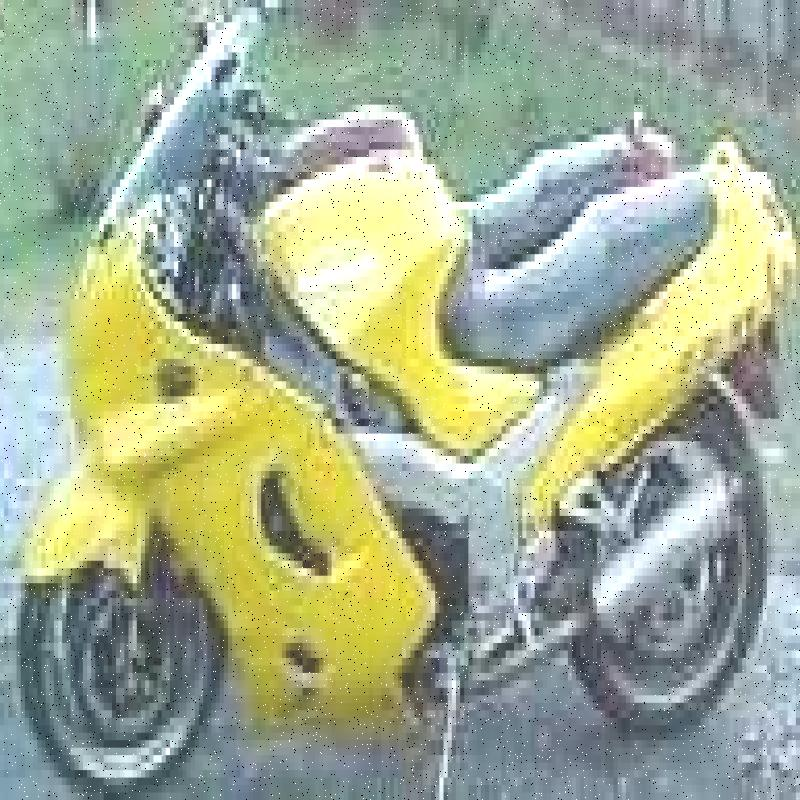bike: (12, 0, 800, 748)
